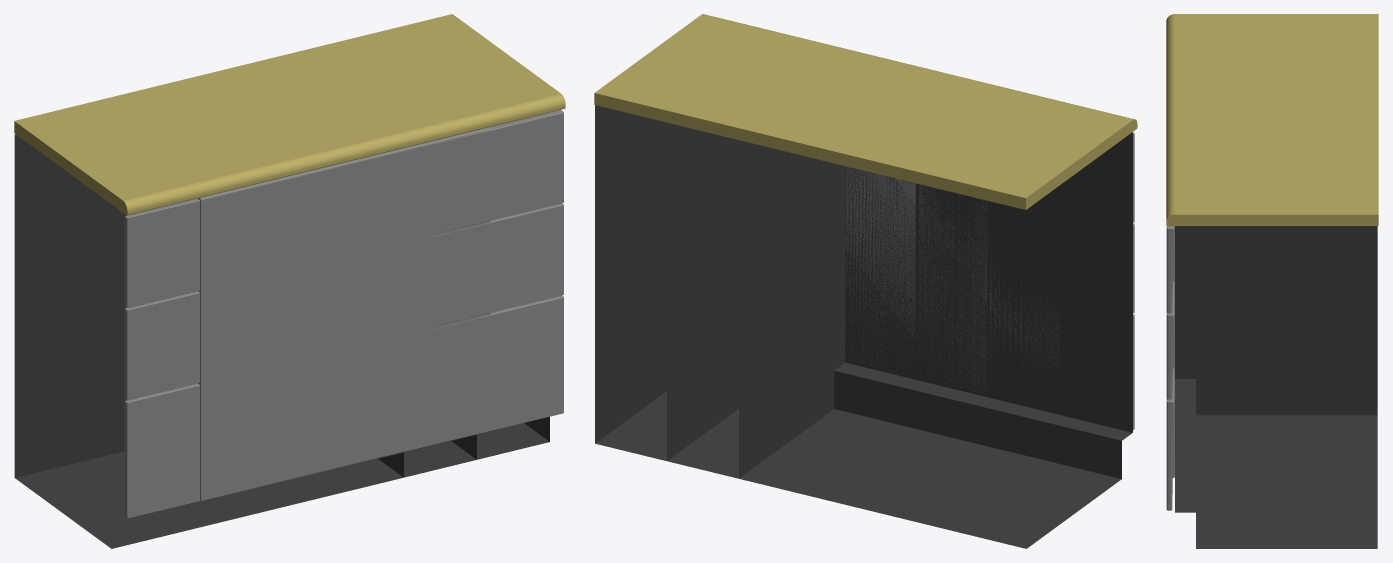
Rendered from kitchen.fbx.
3 views of the same model, side by side, from view 1: azimuth 30°, elevation 25°; view 2: azimuth 150°, elevation 25°; view 3: azimuth 270°, elevation 25° (orthographic). The views are drawn at different scales.
Parts seen in each view (by area): view 1: Plane, Kitchen.Cabinet.Triple, Cabinet.Front.002, Cabinet.Front, Countertop.Triple, Cabinet.002, Cabinet.001, Countertop.Single; view 2: Cabinet.002, Cabinet, Cabinet.001, Countertop.Triple, Kitchen.Cabinet.Triple, Countertop.Double, Cabinet.Front.002, Countertop.Single, Cabinet.Front; view 3: Cabinet, Countertop.Triple, Kitchen.Cabinet.Triple, Cabinet.001, Countertop.Single, Countertop.Double, Cabinet.002, Plane, Cabinet.Front.002.
Part boxes in pixels (bbox=[...]): Plane: bbox=[124, 110, 563, 518]; Kitchen.Cabinet.Triple: bbox=[14, 14, 565, 542]; Cabinet.Front.002: bbox=[197, 127, 490, 501]; Cabinet.Front: bbox=[274, 145, 417, 483]; Countertop.Triple: bbox=[14, 24, 563, 214]; Cabinet.002: bbox=[14, 379, 549, 548]; Cabinet.001: bbox=[88, 428, 476, 530]; Countertop.Single: bbox=[198, 85, 417, 172]; Cabinet.002: bbox=[595, 105, 1132, 547]; Cabinet: bbox=[739, 140, 988, 510]; Cabinet.001: bbox=[667, 122, 1060, 526]; Countertop.Triple: bbox=[594, 14, 1137, 209]; Kitchen.Cabinet.Triple: bbox=[595, 66, 1137, 548]; Countertop.Double: bbox=[694, 31, 1061, 190]; Cabinet.Front.002: bbox=[845, 166, 1059, 380]; Countertop.Single: bbox=[738, 49, 990, 174]; Cabinet.Front: bbox=[847, 186, 987, 393]; Cabinet: bbox=[1175, 226, 1377, 481]; Countertop.Triple: bbox=[1166, 14, 1378, 225]; Kitchen.Cabinet.Triple: bbox=[1166, 14, 1378, 548]; Cabinet.001: bbox=[1196, 415, 1377, 515]; Countertop.Single: bbox=[1170, 81, 1376, 147]; Countertop.Double: bbox=[1170, 47, 1358, 181]; Cabinet.002: bbox=[1175, 379, 1377, 548]; Plane: bbox=[1166, 226, 1174, 510]; Cabinet.Front.002: bbox=[1172, 226, 1174, 477].
Bounding box in the file's own units: 120 × 93.32 × 53.75.
